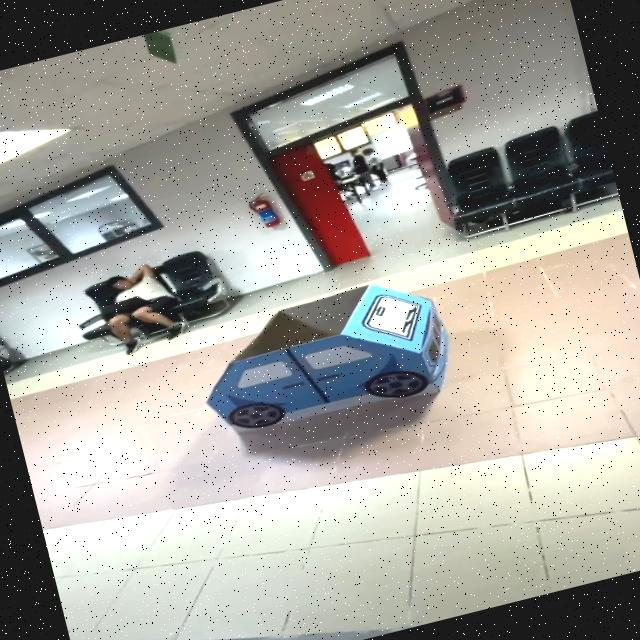blue_car: (177, 253, 479, 469)
